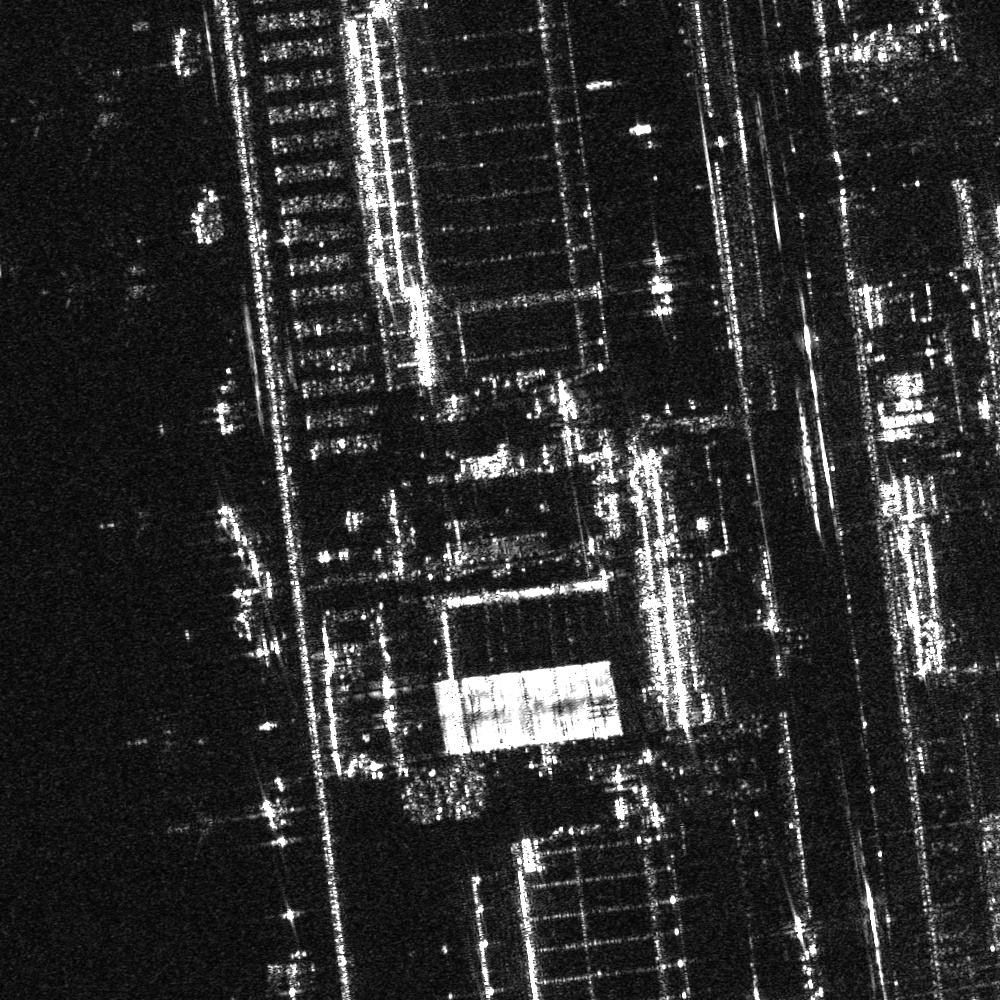A220: (151, 788, 220, 865)
Boeing787: (4, 52, 138, 177), (48, 231, 170, 339), (95, 489, 160, 549)
